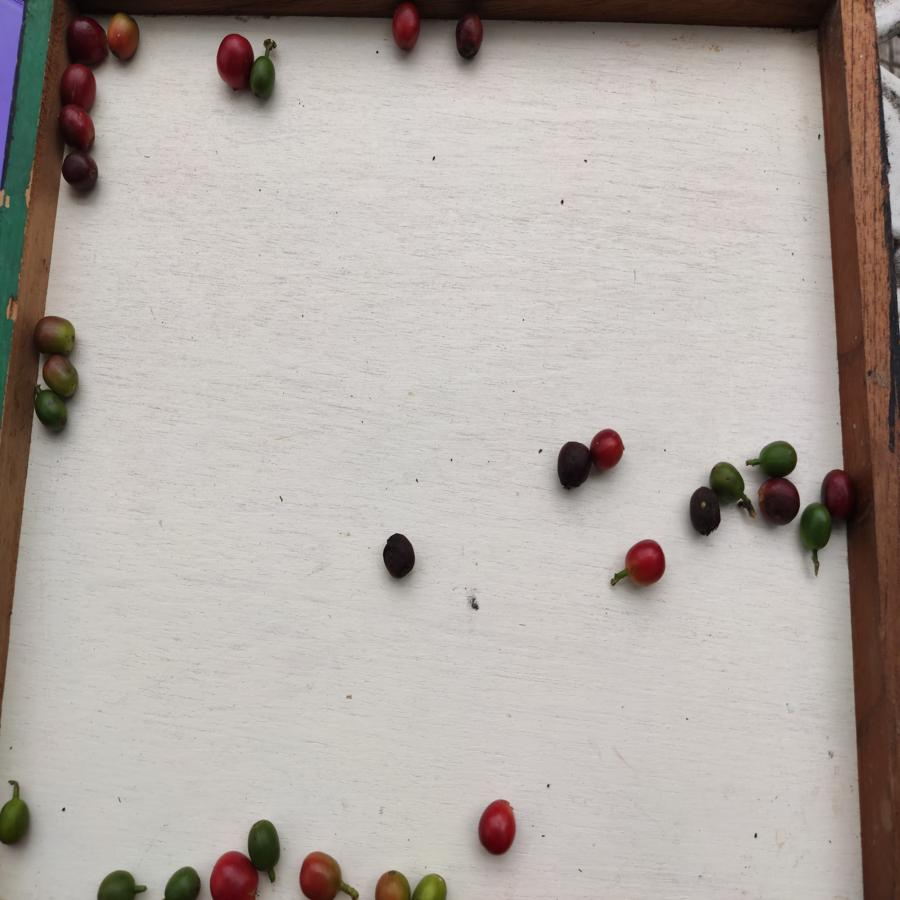Inmaduro: (248, 817, 281, 874), (1, 794, 35, 848), (758, 436, 801, 476), (711, 458, 745, 504), (801, 502, 831, 552), (36, 388, 67, 436), (94, 869, 140, 900), (162, 865, 201, 900), (251, 55, 279, 101)
Maduro: (475, 795, 520, 856), (206, 849, 258, 900), (215, 32, 254, 92), (299, 849, 344, 900), (624, 535, 666, 586), (387, 3, 425, 55), (591, 427, 625, 469)
Pinton: (106, 11, 141, 63), (34, 314, 81, 351), (40, 356, 78, 392), (372, 868, 414, 900), (412, 872, 450, 900)
Sobremaduro: (758, 476, 801, 530), (66, 19, 111, 65), (555, 438, 591, 492), (381, 530, 417, 581), (689, 484, 721, 537), (822, 468, 855, 519), (63, 64, 98, 110), (61, 106, 96, 148), (456, 13, 486, 59), (62, 152, 98, 188)
